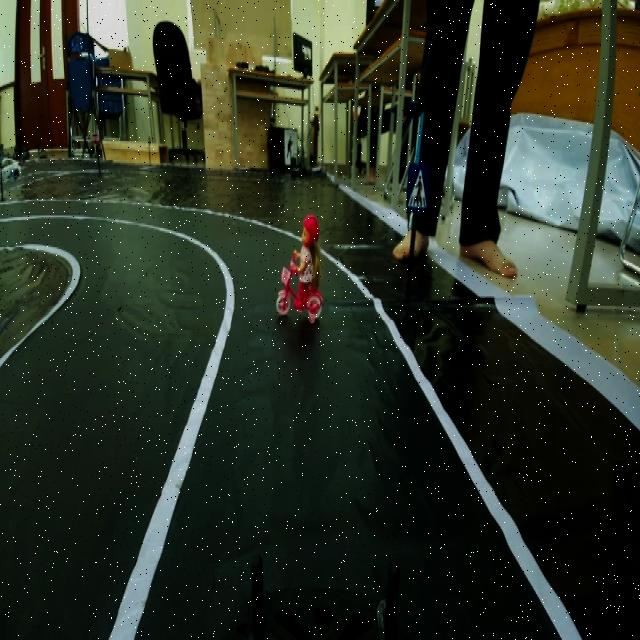crosswalk: (405, 162, 432, 218)
pedestrian: (276, 208, 334, 320)
